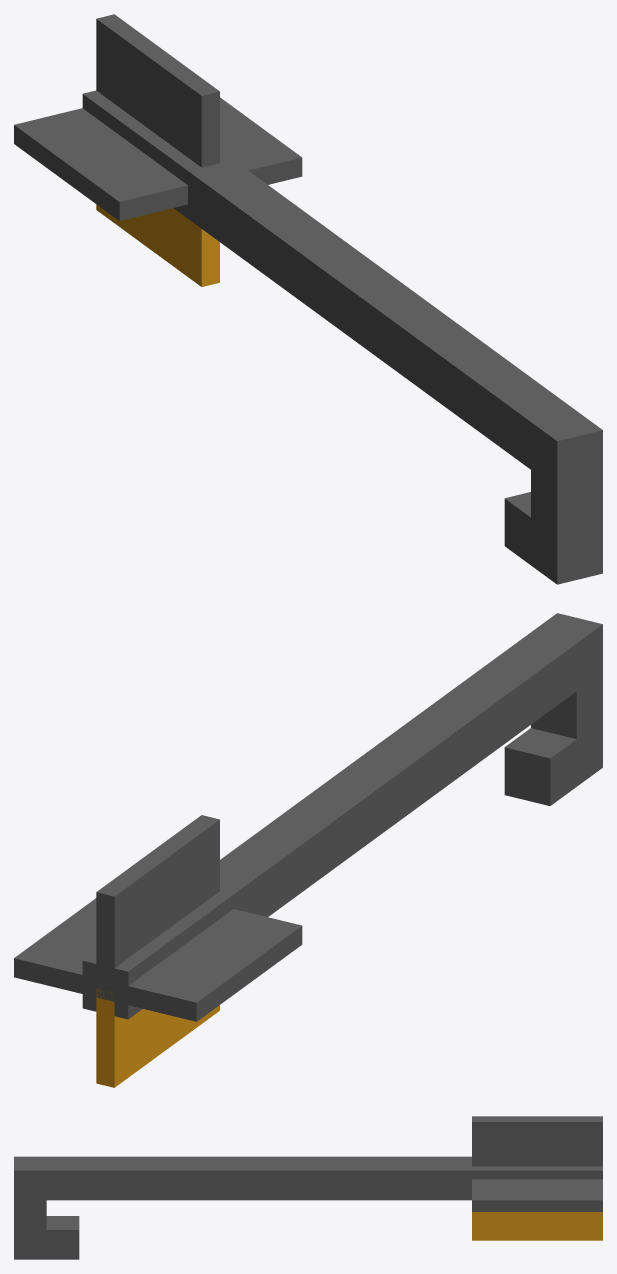
Rendered from SecondArrowA.fbx.
The picture shows the model from 3 angles, top to bottom: view 1: azimuth 30°, elevation 25°; view 2: azimuth 150°, elevation 25°; view 3: azimuth 270°, elevation 25°; orthographic projection. The views are drawn at different scales.
Visible parts, largest first — view 1: Cube.001, Cube.005, Cube.003, Cube.002, Cube.006, Cube.004, Cube.007; view 2: Cube.001, Cube.005, Cube.003, Cube.006, Cube.004, Cube.007, Cube.002; view 3: Cube.001, Cube.005, Cube.004, Cube.006, Cube.002, Cube.007.
Part boxes in pixels (x1,y1,x2,y2): Cube.001: (82,90,602,488); Cube.005: (96,14,219,167); Cube.003: (14,108,187,220); Cube.002: (531,470,602,584); Cube.006: (96,204,219,286); Cube.004: (220,97,302,184); Cube.007: (504,492,530,564); Cube.001: (82,613,602,1019); Cube.005: (96,815,219,989); Cube.003: (105,909,302,1021); Cube.006: (96,988,219,1087); Cube.004: (14,898,105,999); Cube.007: (504,728,576,805); Cube.002: (531,672,602,786); Cube.001: (14,1156,602,1200); Cube.005: (472,1116,602,1166); Cube.004: (472,1179,602,1211); Cube.006: (472,1212,602,1240); Cube.002: (14,1200,46,1259); Cube.007: (46,1216,79,1259).
Size of the model in its own units: 40 by 45 by 180.
